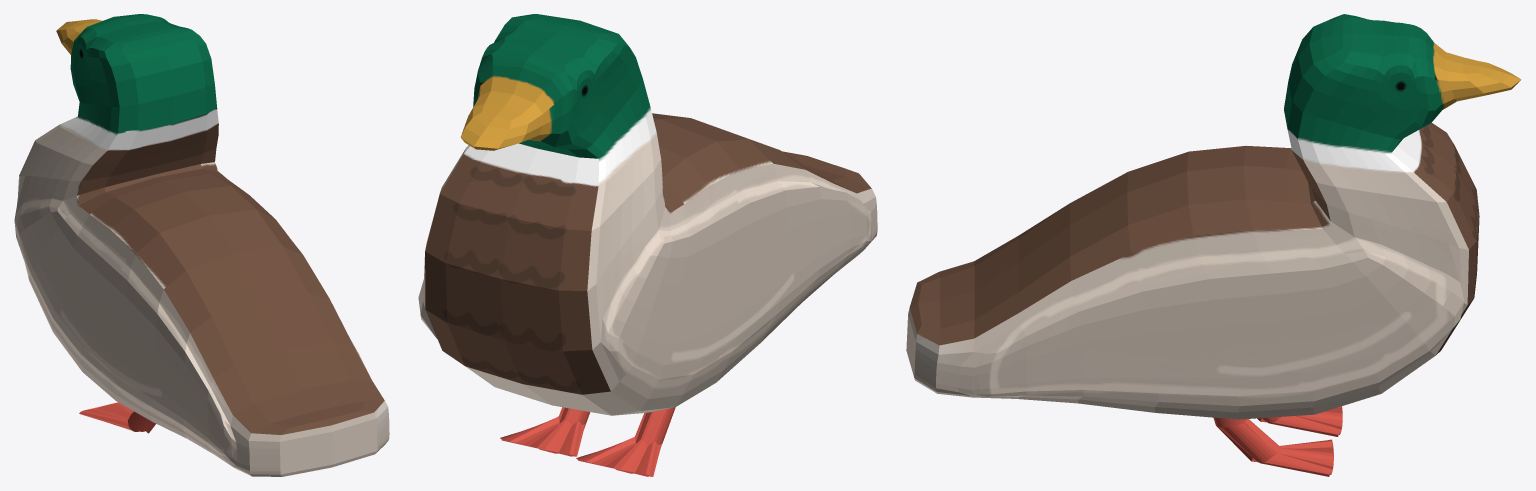
File: mallardDuck_model.fbx
The picture shows the model from 3 angles, left to right: view 1: azimuth 30°, elevation 25°; view 2: azimuth 150°, elevation 25°; view 3: azimuth 270°, elevation 25°; orthographic projection. The views are drawn at different scales.
Visible parts, largest first — view 1: model_mallardDuck; view 2: model_mallardDuck; view 3: model_mallardDuck.
Part boxes in pixels (<box>): model_mallardDuck: <box>14,14,389,476</box>; model_mallardDuck: <box>418,14,877,476</box>; model_mallardDuck: <box>906,14,1521,476</box>.
Size of the model in its own units: 2.21 by 4.78 by 6.47.
Materials: 1 (1 with a texture image).
